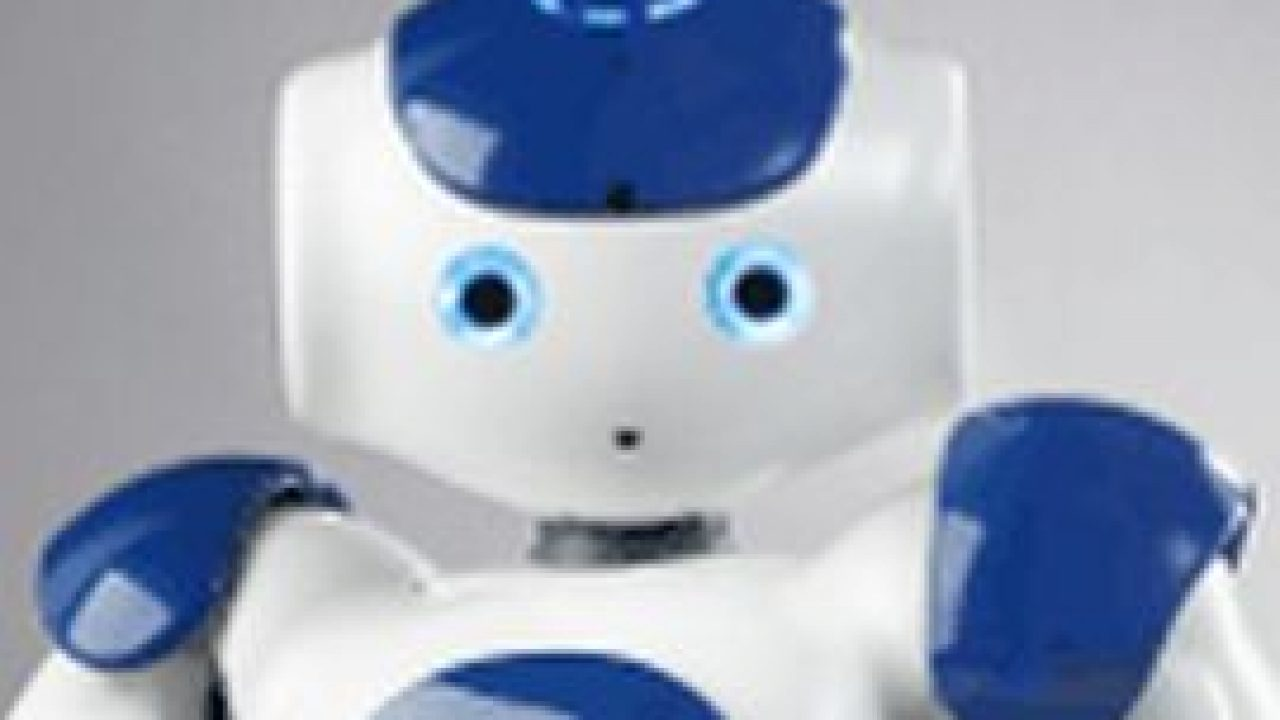nao: (48, 3, 1211, 714)
